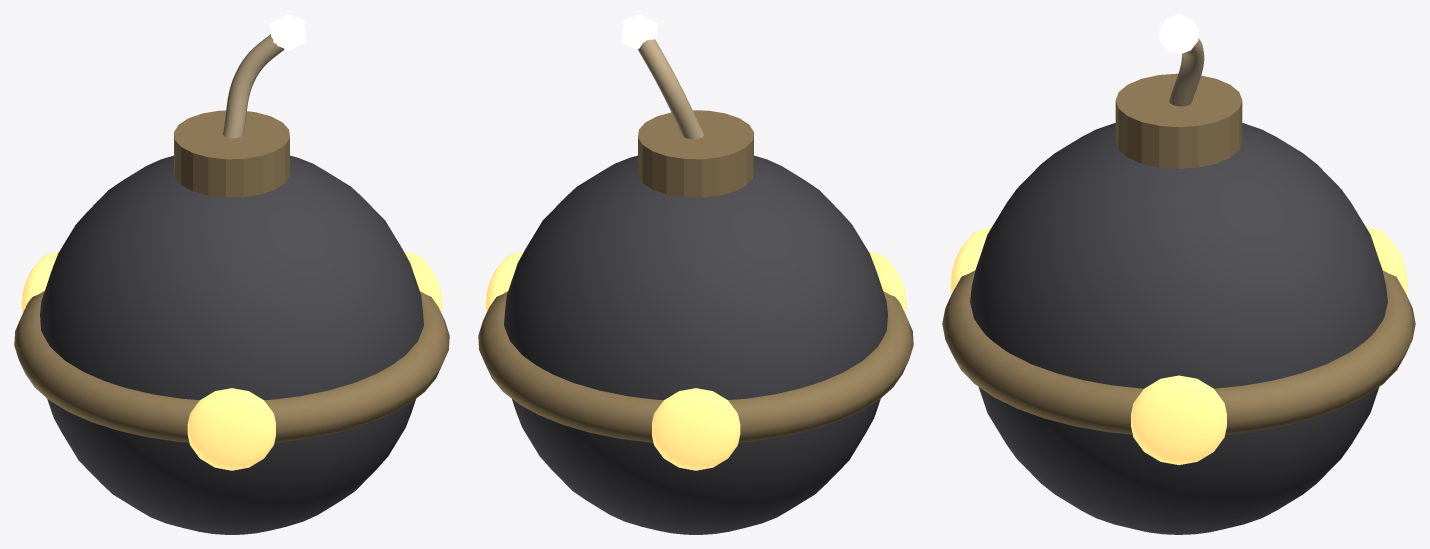
The model's file is PROJ_SearchBomb.fbx.
The picture shows the model from 3 angles, left to right: view 1: azimuth 30°, elevation 25°; view 2: azimuth 150°, elevation 25°; view 3: azimuth 270°, elevation 25°; orthographic projection. The views are drawn at different scales.
Parts seen in each view (by area): view 1: PROJ_SearchBomb; view 2: PROJ_SearchBomb; view 3: PROJ_SearchBomb.
Boxes of the visible parts, x1,y1,x2,y2 form: PROJ_SearchBomb: (14,14,449,534); PROJ_SearchBomb: (478,14,913,534); PROJ_SearchBomb: (942,14,1415,534).
Size of the model in its own units: 0.3458 by 0.416 by 0.336.
